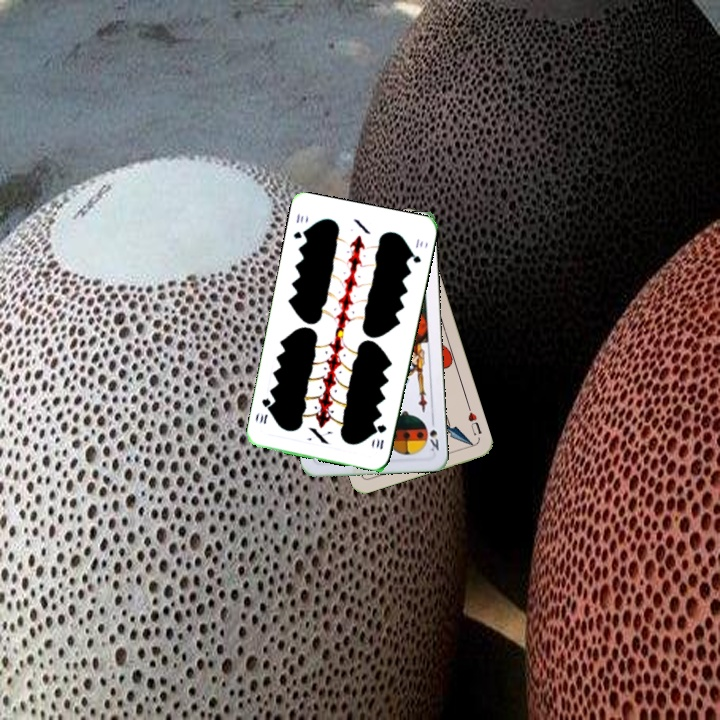G10: (289, 209, 309, 242), (371, 420, 389, 452)
HU: (463, 402, 484, 438)
SK: (422, 414, 441, 454)
